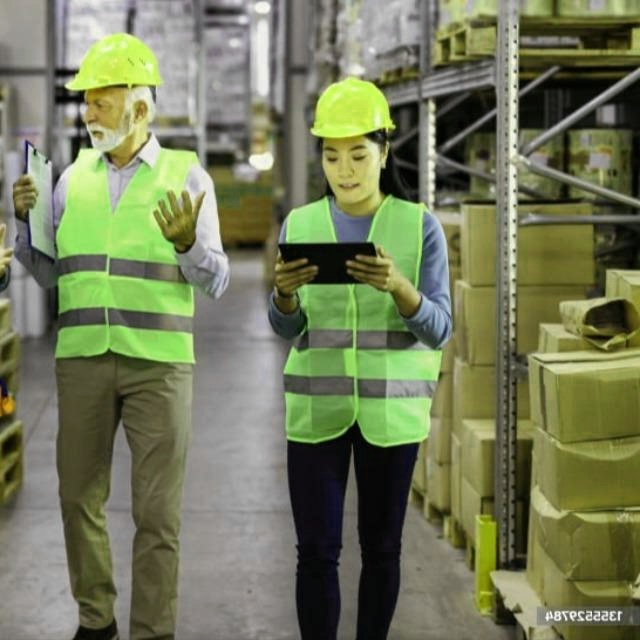Con_Casco: (68, 33, 161, 147), (311, 74, 393, 199)
Con_Chaleco: (277, 197, 439, 442), (53, 144, 194, 363)
